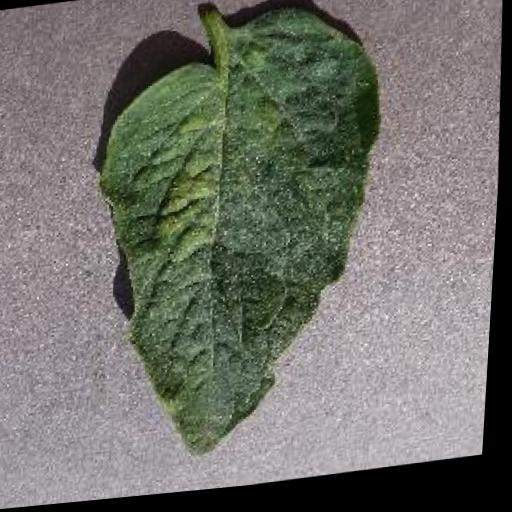Spider Mites: (84, 0, 400, 473)
